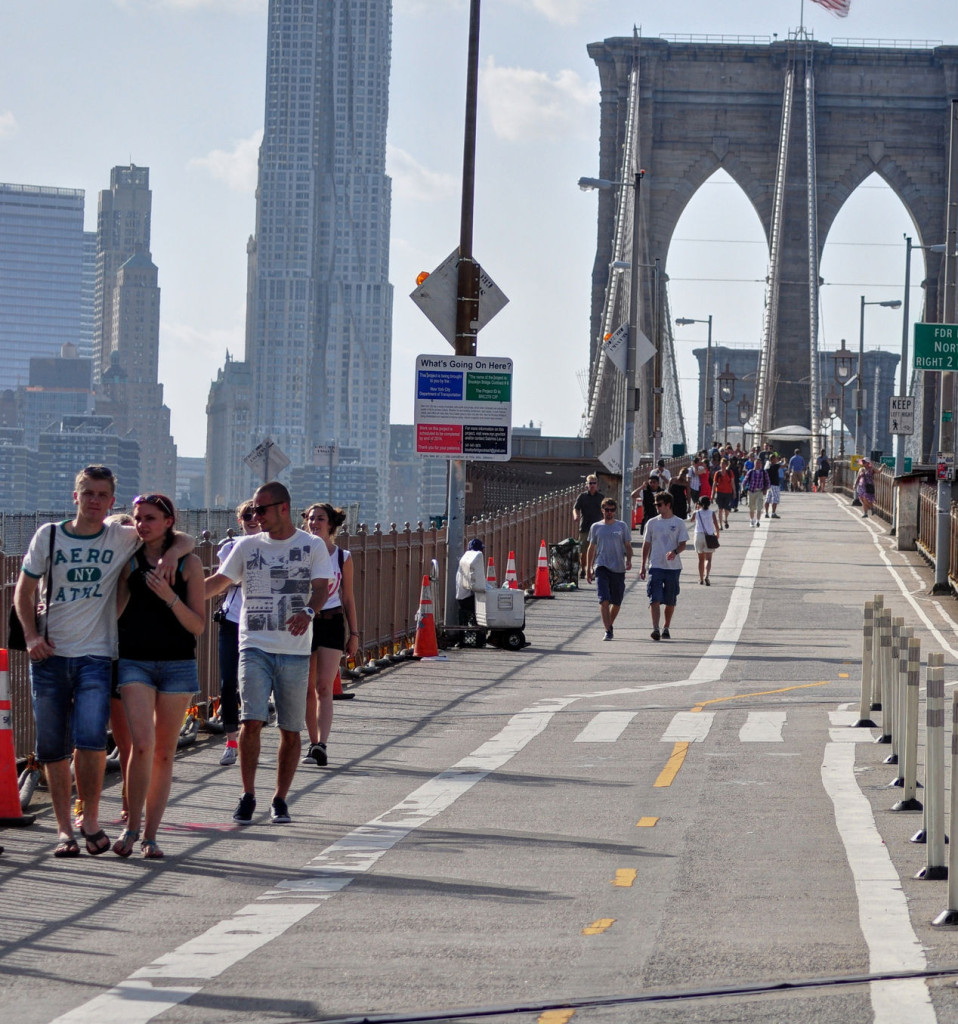pedestrian: (196, 479, 327, 836), (13, 464, 127, 863), (109, 501, 207, 869), (632, 488, 685, 642), (578, 499, 634, 644), (690, 495, 721, 588), (741, 452, 765, 526)
